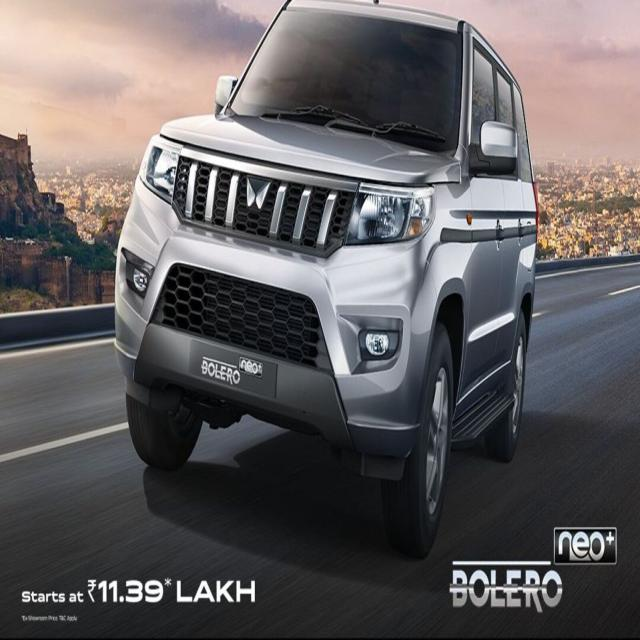light_vehicle: (114, 0, 540, 546)
